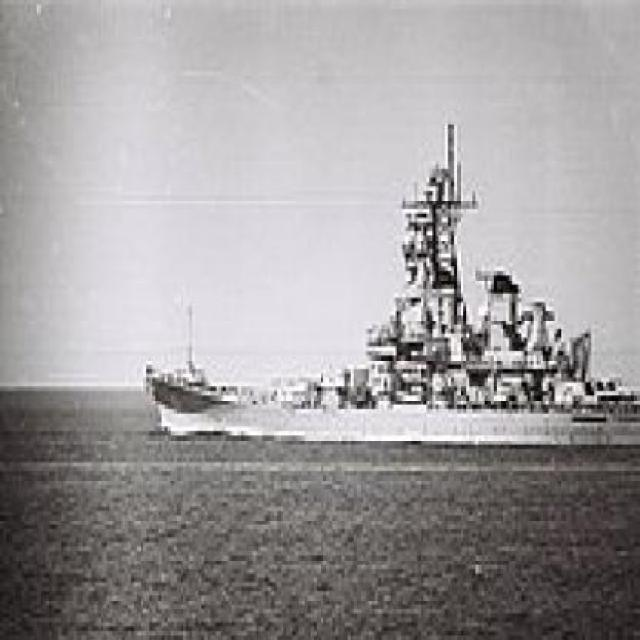warship2: (141, 112, 638, 468)
